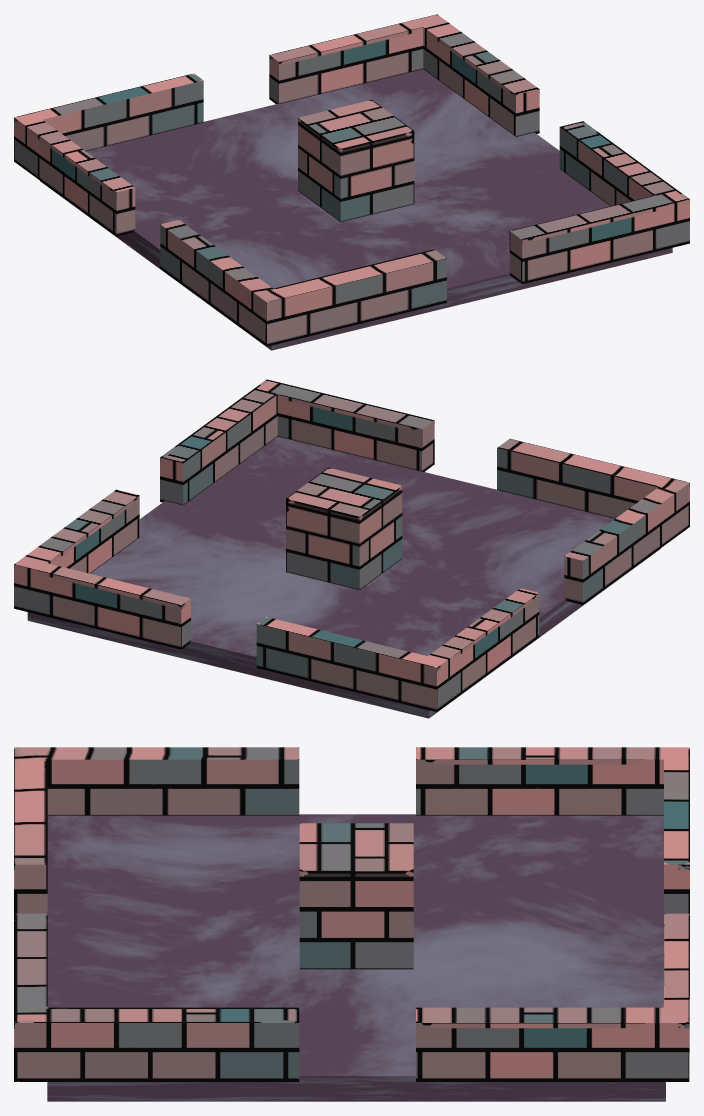
File: dirt_level_environment.glb
3 renders of one model, top to bottom at view 1: azimuth 30°, elevation 25°; view 2: azimuth 150°, elevation 25°; view 3: azimuth 270°, elevation 25°, orthographic. The views are drawn at different scales.
Parts seen in each view (by area): view 1: Cube, Ground; view 2: Cube, Ground; view 3: Ground, Cube.
Boxes of the visible parts, x1,y1,x2,y2 form: Cube: (14,14,689,346); Ground: (40,69,672,350); Cube: (14,379,689,711); Ground: (27,436,660,718); Ground: (47,814,665,1101); Cube: (14,747,689,1081).
Bounding box in the file's own units: 11.47 × 2.4 × 11.88.
Materials: 2 (2 with a texture image).
